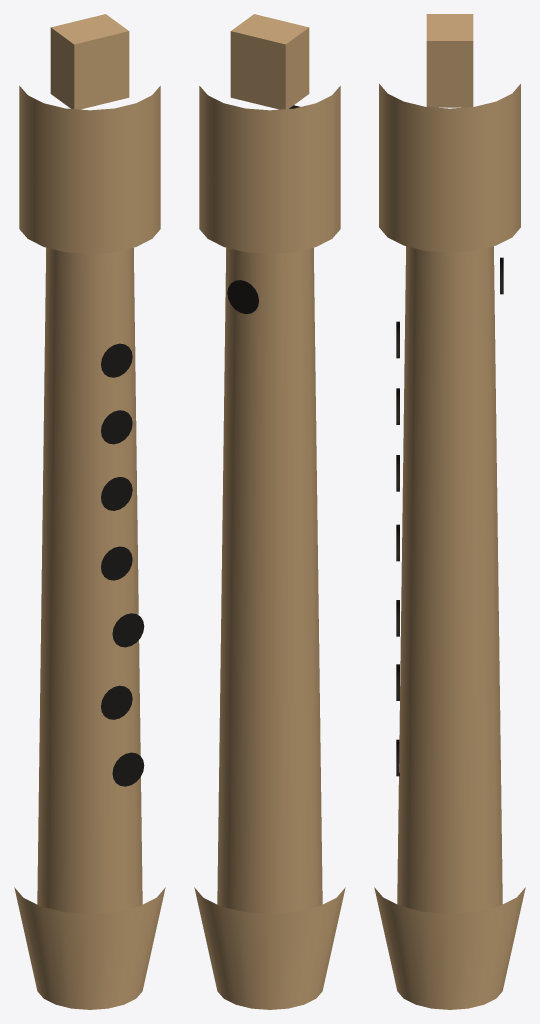
File: contrabass-recorder.glb
3 renders of one model, left to right at view 1: azimuth 30°, elevation 25°; view 2: azimuth 150°, elevation 25°; view 3: azimuth 270°, elevation 25°, orthographic.
Parts seen in each view (by area): view 1: body, head, foot, beak, key__hole2, key__hole4, key__hole5, key__hole1, key__hole6, key__hole7, key__hole3; view 2: body, head, foot, beak, key__hole0; view 3: body, head, foot, beak.
Boxes of the visible parts, box(x1,y1,x2,y2) form: body: box(37, 247, 142, 913); head: box(19, 86, 160, 253); foot: box(14, 887, 165, 1009); beak: box(50, 14, 129, 109); key__hole2: box(101, 410, 132, 444); key__hole4: box(101, 546, 132, 580); key__hole5: box(112, 613, 144, 647); key__hole1: box(101, 343, 132, 377); key__hole6: box(101, 685, 132, 719); key__hole7: box(112, 752, 144, 786); key__hole3: box(101, 477, 132, 510); body: box(217, 247, 322, 913); head: box(199, 86, 340, 253); foot: box(194, 887, 345, 1009); beak: box(230, 14, 309, 109); key__hole0: box(227, 280, 258, 313); body: box(397, 246, 502, 913); head: box(379, 84, 520, 252); foot: box(374, 887, 525, 1009); beak: box(426, 14, 473, 107).
Size of the model in its own units: 1.15 by 7.89 by 1.13.
